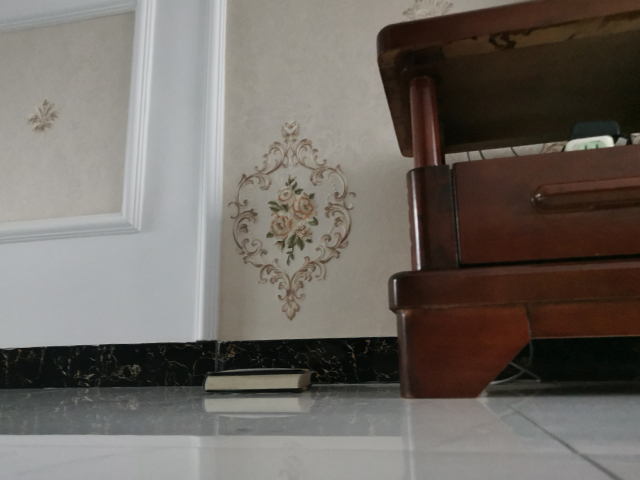book: (200, 368, 312, 394)
cabinet: (375, 1, 640, 401)
wire: (485, 339, 544, 388)
